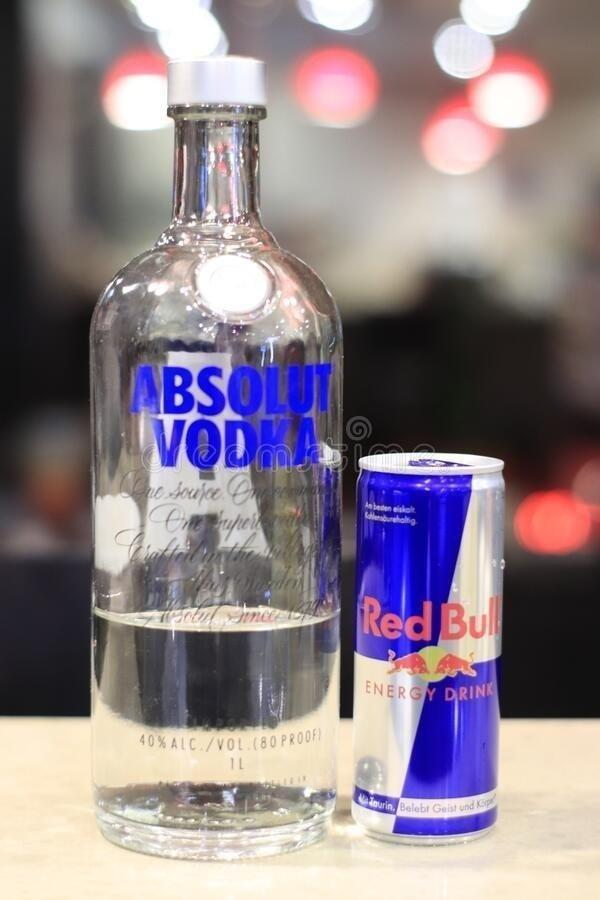bottle-glass: (85, 59, 348, 861)
tin can: (349, 445, 508, 848)
